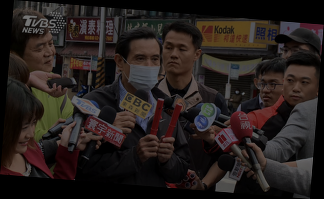with_mask: (127, 51, 161, 94)
without_mask: (162, 41, 196, 77), (282, 74, 319, 107), (29, 35, 57, 72), (15, 116, 36, 156), (259, 77, 282, 108)
